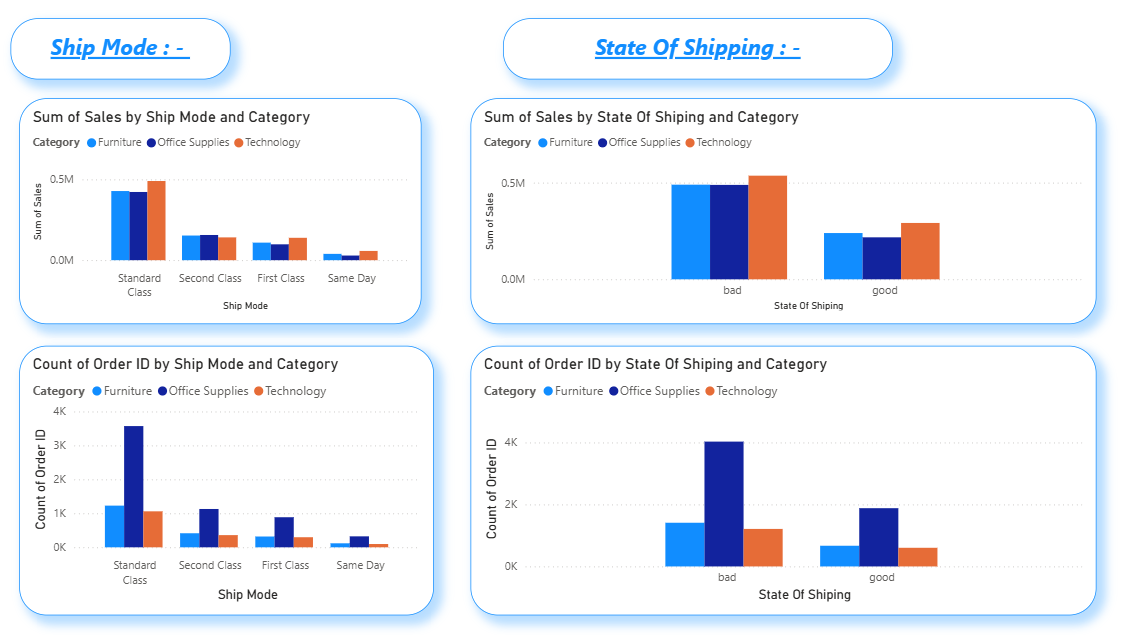

The page's visual inventory and layout, read from the dashboard file:
{"tool":"powerbi","page":{"name":"Page 9","canvas":[1280,720],"ordinal":8},"visuals":[{"type":"clusteredColumnChart","fields":{"Category":["train.Ship Mode"],"Series":["train.Category"],"Y":["CountNonNull(train.Order ID)"]},"box":[50.8,393.8,455.6,296.4],"z":0},{"type":"clusteredColumnChart","fields":{"Category":["train.Ship Mode"],"Series":["train.Category"],"Y":["Sum(train.Sales)"]},"box":[50.8,122.1,441.9,248.4],"z":1000},{"type":"clusteredColumnChart","fields":{"Category":["train.State Of Shiping"],"Series":["train.Category"],"Y":["Sum(train.Sales)"]},"box":[546.1,122.1,687.5,248.4],"z":2000},{"type":"clusteredColumnChart","fields":{"Category":["train.State Of Shiping"],"Series":["train.Category"],"Y":["CountNonNull(train.Order ID)"]},"box":[546.1,393.8,687.5,296.4],"z":3000},{"type":"textbox","box":[581.8,34.3,428.1,67.2],"z":4000},{"type":"textbox","box":[41.2,34.3,241.5,67.2],"z":5000}]}

Visuals, with their boxes in screenshot pixels (x1, y1, x2, y2), scaled from the page's 1280x720 canvas onto the 1122x635 screenshot:
clusteredColumnChart - train.Ship Mode x train.Category: [left=45, top=347, right=444, bottom=609]
clusteredColumnChart - train.Ship Mode x train.Category: [left=45, top=108, right=432, bottom=327]
clusteredColumnChart - train.State Of Shiping x train.Category: [left=479, top=108, right=1081, bottom=327]
clusteredColumnChart - train.State Of Shiping x train.Category: [left=479, top=347, right=1081, bottom=609]
textbox: [left=510, top=30, right=885, bottom=90]
textbox: [left=36, top=30, right=248, bottom=90]
